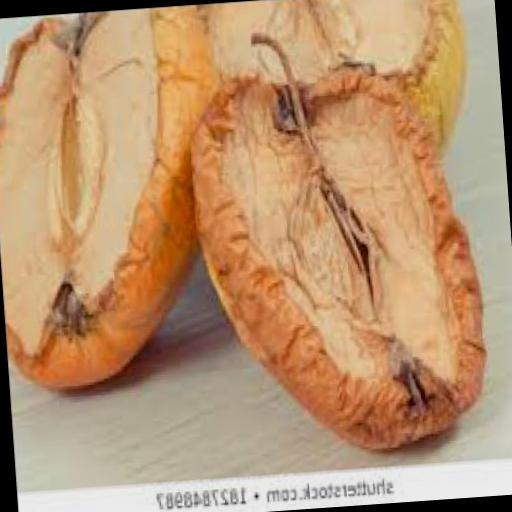biodegradable: (181, 14, 492, 454), (0, 3, 241, 389), (201, 0, 473, 161)
